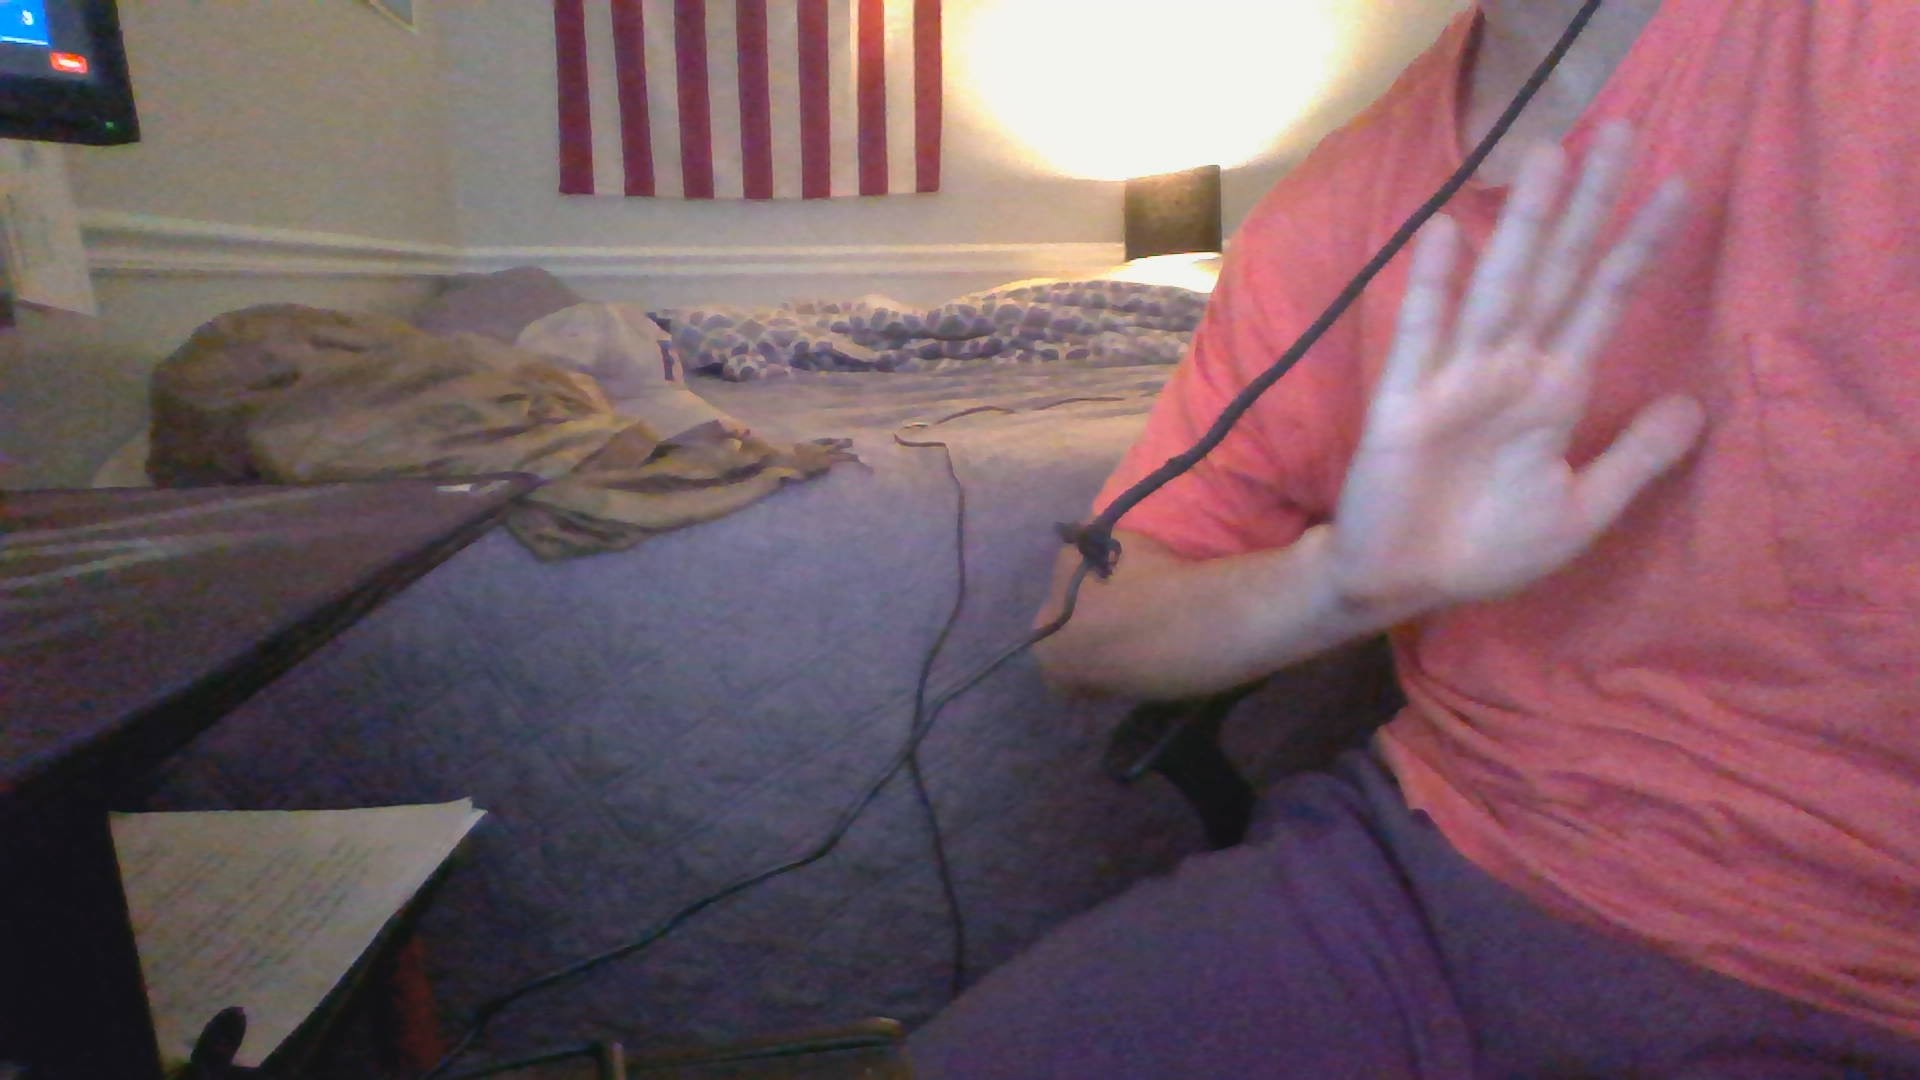Right Palm Up: (1371, 133, 1727, 626)
